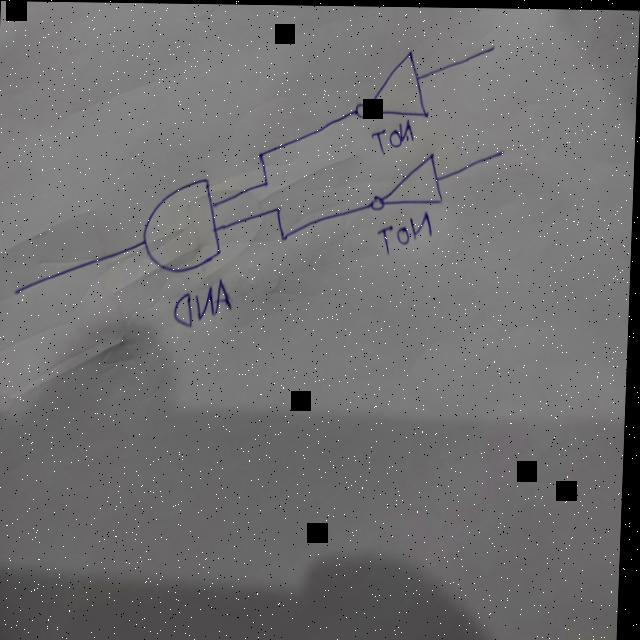junction: (257, 146, 268, 162), (281, 229, 290, 242), (263, 176, 271, 188), (276, 201, 284, 212)
terminal: (495, 142, 511, 160), (486, 39, 500, 55), (11, 282, 24, 298)
text: (174, 274, 236, 328), (378, 207, 436, 254), (370, 114, 417, 154)
